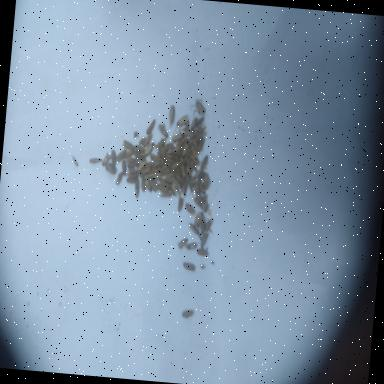pbw: (102, 162, 118, 176), (176, 116, 189, 130), (167, 106, 176, 126), (116, 148, 127, 164), (146, 119, 156, 136), (199, 232, 209, 249), (146, 180, 159, 193), (156, 124, 168, 138), (192, 198, 206, 210), (134, 159, 146, 173), (196, 180, 207, 195), (184, 176, 194, 192), (158, 177, 171, 189), (195, 102, 206, 116), (101, 154, 112, 168), (125, 173, 139, 184), (121, 141, 136, 151), (200, 213, 207, 234), (200, 154, 208, 172), (114, 172, 124, 186), (184, 158, 194, 172), (182, 262, 196, 272), (171, 132, 185, 142), (142, 134, 152, 148), (109, 150, 117, 167), (121, 160, 129, 177), (145, 142, 154, 157), (184, 204, 195, 216), (125, 148, 136, 160), (170, 184, 181, 196), (192, 154, 202, 167), (148, 172, 162, 181), (132, 145, 146, 154), (189, 144, 197, 159), (174, 173, 184, 185), (178, 238, 188, 250), (202, 175, 210, 190), (201, 195, 208, 212), (144, 179, 153, 192), (144, 162, 158, 170), (184, 165, 192, 179), (191, 138, 199, 152), (197, 138, 205, 152), (133, 183, 140, 199), (180, 144, 188, 158), (188, 224, 198, 235), (140, 167, 151, 177), (164, 170, 173, 182), (177, 197, 184, 212), (194, 213, 201, 228), (160, 147, 168, 160), (204, 219, 212, 232), (166, 153, 179, 161), (160, 162, 170, 172), (179, 138, 189, 148), (194, 116, 204, 126), (156, 138, 166, 148), (170, 161, 181, 170), (181, 131, 195, 138), (195, 249, 209, 256), (166, 147, 178, 155), (140, 177, 146, 193), (148, 154, 160, 162), (190, 118, 197, 131), (154, 157, 163, 167), (174, 158, 184, 167), (88, 158, 102, 164), (182, 182, 188, 196), (186, 242, 196, 250), (194, 126, 204, 134), (194, 168, 201, 179), (205, 173, 212, 184), (160, 191, 171, 198), (72, 156, 79, 166), (158, 186, 169, 192), (192, 164, 198, 173)
